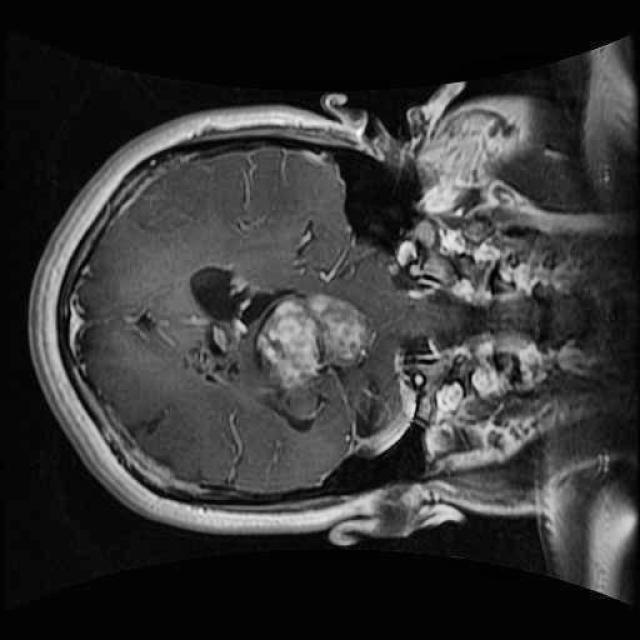Non-Tumor: (246, 280, 388, 399)
